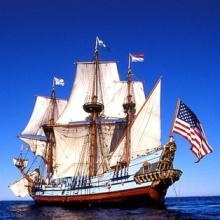fanchuan: (9, 40, 205, 207)
